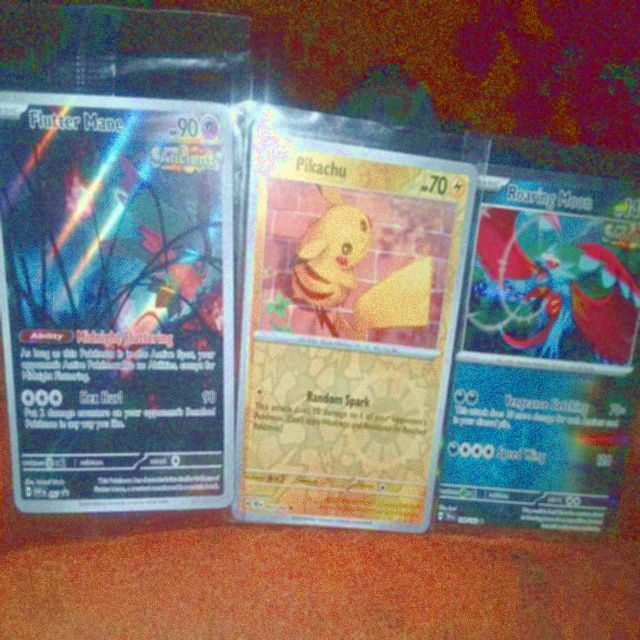card: (232, 129, 480, 536), (0, 90, 236, 515), (429, 160, 640, 544)
